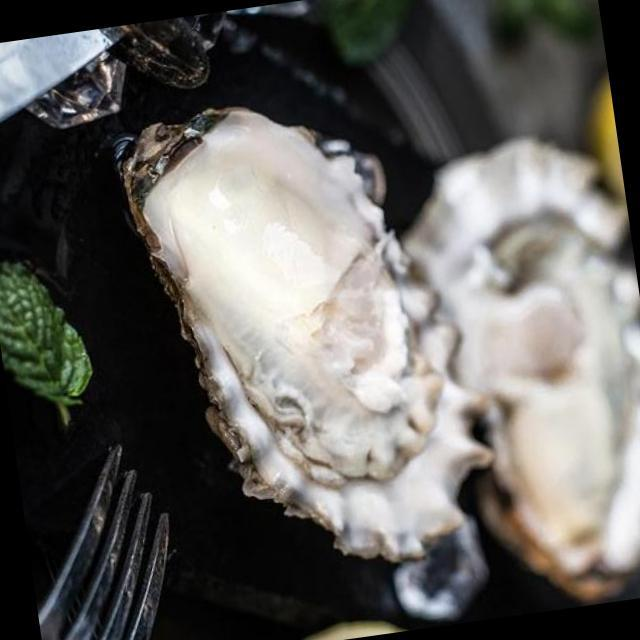Oyster-Open: (98, 69, 513, 603), (398, 126, 640, 623)
